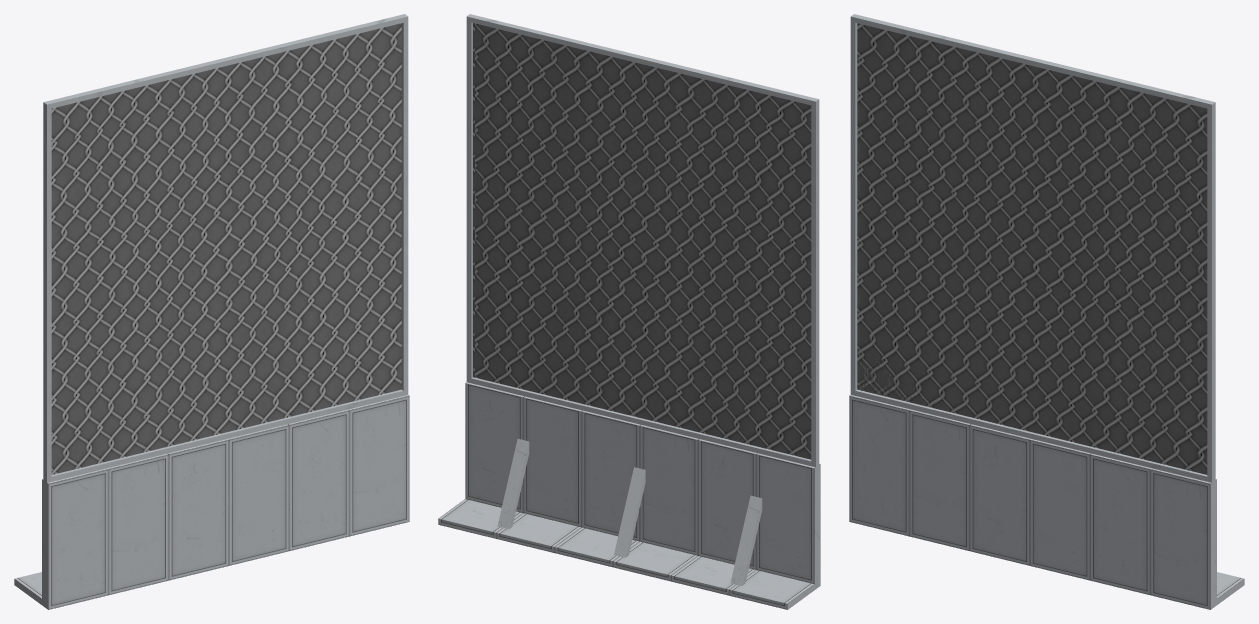
Rendered from Fence_02_Straight_3m.FBX.
The picture shows the model from 3 angles, left to right: view 1: azimuth 30°, elevation 25°; view 2: azimuth 150°, elevation 25°; view 3: azimuth 330°, elevation 25°; orthographic projection. The views are drawn at different scales.
Parts seen in each view (by area): view 1: Fence_02_Straight_3m; view 2: Fence_02_Straight_3m; view 3: Fence_02_Straight_3m.
Part boxes in pixels (bbox=[...]): Fence_02_Straight_3m: bbox=[14, 14, 409, 609]; Fence_02_Straight_3m: bbox=[438, 14, 820, 609]; Fence_02_Straight_3m: bbox=[849, 14, 1244, 609].
Size of the model in its own units: 3 by 4 by 0.49.
Materials: 2 (2 with a texture image).
